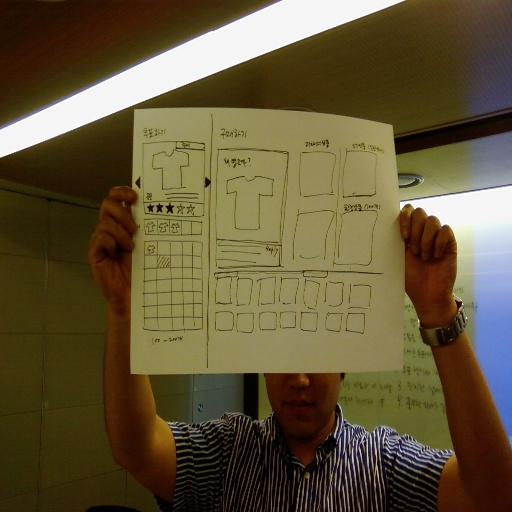hand: (394, 197, 463, 341), (84, 182, 140, 311)
